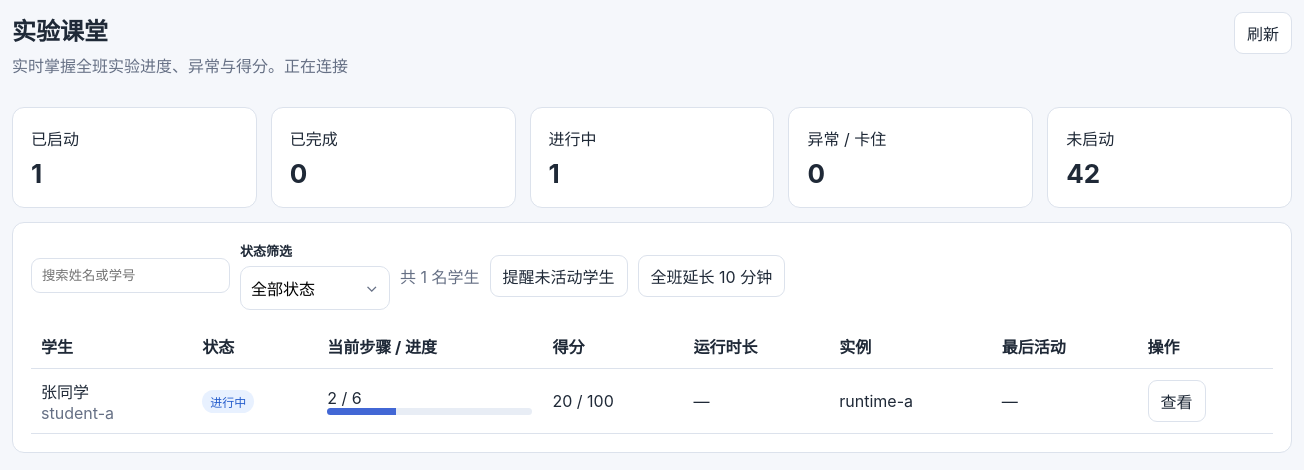
Test case: 教师课堂权限失败后清除旧统计和旧处置入口
Click the button "刷新" at (1263, 33), box [1234, 12, 1292, 54]
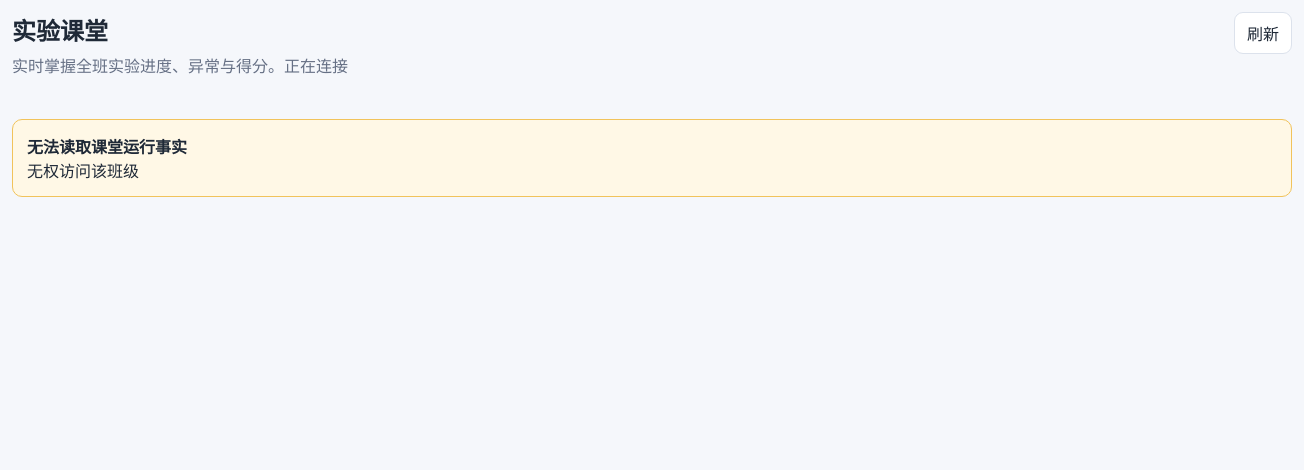
Expected: the text "无权访问该班级" is shown, [27, 161, 139, 181]
Expected: the text "已启动" is gone
Expected: the text "张同学" is gone
